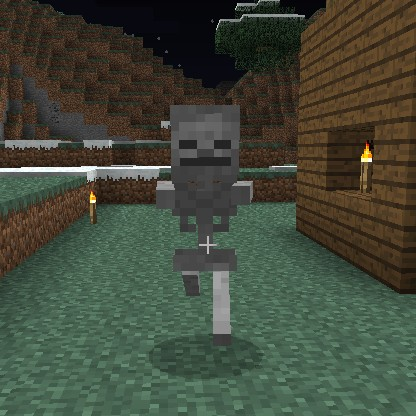skeleton: (158, 99, 258, 339)
